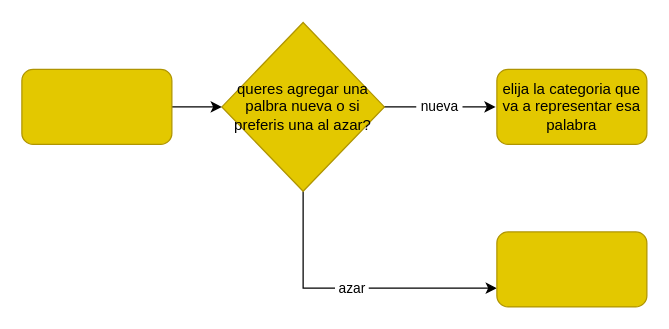
Image size: 669x329. Some labels were removed from this diagram. Each missing label, with the centre of its shape:
Avisar qe categoria eligio el sistema. Eje: "el sistema eligio categoria 'cine'": [571,269]
configuras el juego: [96,106]
